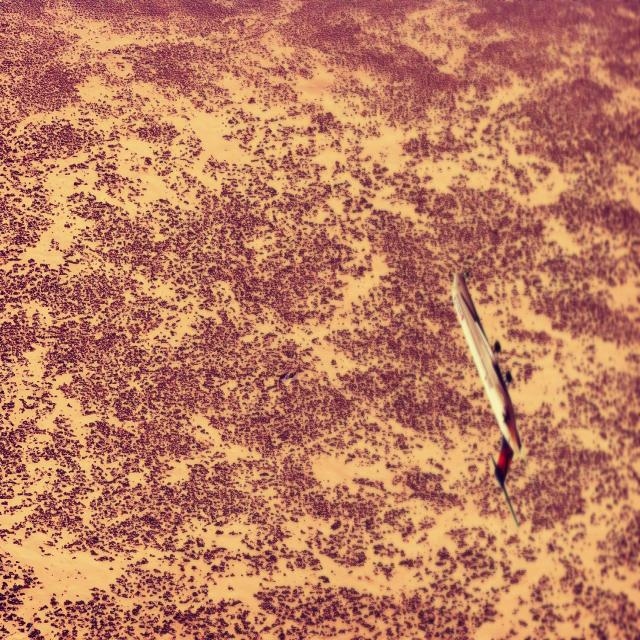airplane: (450, 269, 526, 526)
